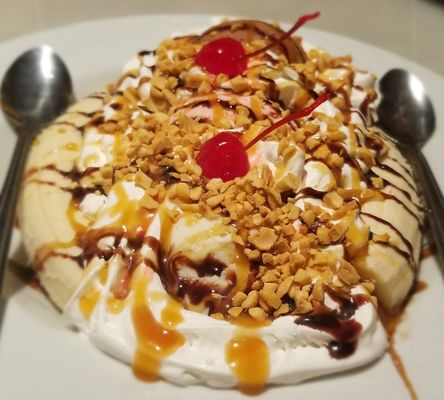salad: (0, 44, 76, 317)
